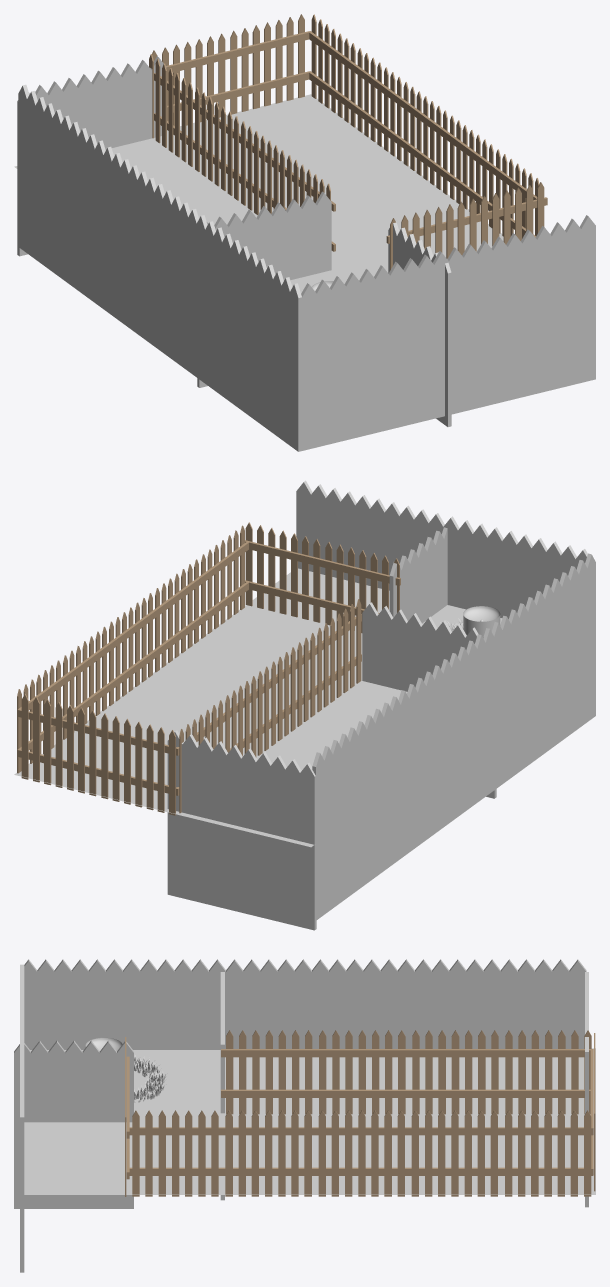
Rendered from SM_Gameplay_Test.fbx.
The picture shows the model from 3 angles, top to bottom: view 1: azimuth 30°, elevation 25°; view 2: azimuth 150°, elevation 25°; view 3: azimuth 270°, elevation 25°; orthographic projection.
Parts seen in each view (by area): view 1: Cube, Cube.002, Plane.002, Board2.006, Board2.005, Board2.008, Cube.004, Cube.010, Board2.004, Cube.003; view 2: Cube, Plane.002, Cube.004, Cube.002, Board2.006, Board2.005, Board2.008, Board2.004, Cube.010, Cube.003; view 3: Cube, Plane.002, Board2.006, Board2.005, Cube.003, Cube.002, BezierCircle.001, Board2.008, Board2.004, Cube.010, Cube.004.
Boxes of the visible parts, box(x1,y1,x2,y2) form: Cube: box(18, 84, 301, 451); Cube.002: box(301, 215, 595, 450); Plane.002: box(14, 94, 503, 293); Board2.006: box(308, 14, 539, 238); Board2.005: box(149, 54, 335, 251); Board2.008: box(152, 14, 309, 125); Cube.004: box(17, 56, 166, 256); Cube.010: box(197, 191, 331, 387); Board2.004: box(386, 182, 547, 270); Cube.003: box(388, 221, 451, 426); Cube: box(312, 553, 595, 920); Plane.002: box(14, 568, 501, 847); Cube.004: box(167, 730, 316, 930); Cube.002: box(296, 480, 587, 618); Board2.006: box(17, 525, 248, 773); Board2.005: box(176, 599, 361, 813); Board2.008: box(18, 694, 178, 815); Board2.004: box(245, 522, 400, 632); Cube.010: box(362, 602, 496, 798); Cube.003: box(389, 524, 447, 623); Cube: box(24, 959, 586, 1049); Plane.002: box(24, 1048, 595, 1194); Board2.006: box(129, 1110, 593, 1196); Board2.005: box(221, 1030, 593, 1114); Cube.003: box(14, 1040, 133, 1208); Cube.002: box(20, 964, 24, 1272); BezierCircle.001: box(134, 1055, 165, 1102); Board2.008: box(590, 1033, 595, 1191); Board2.004: box(125, 1037, 129, 1196); Cube.010: box(220, 972, 224, 1200); Cube.004: box(585, 972, 588, 1207).
Bounding box in the file's own units: 411 × 226 × 678.
